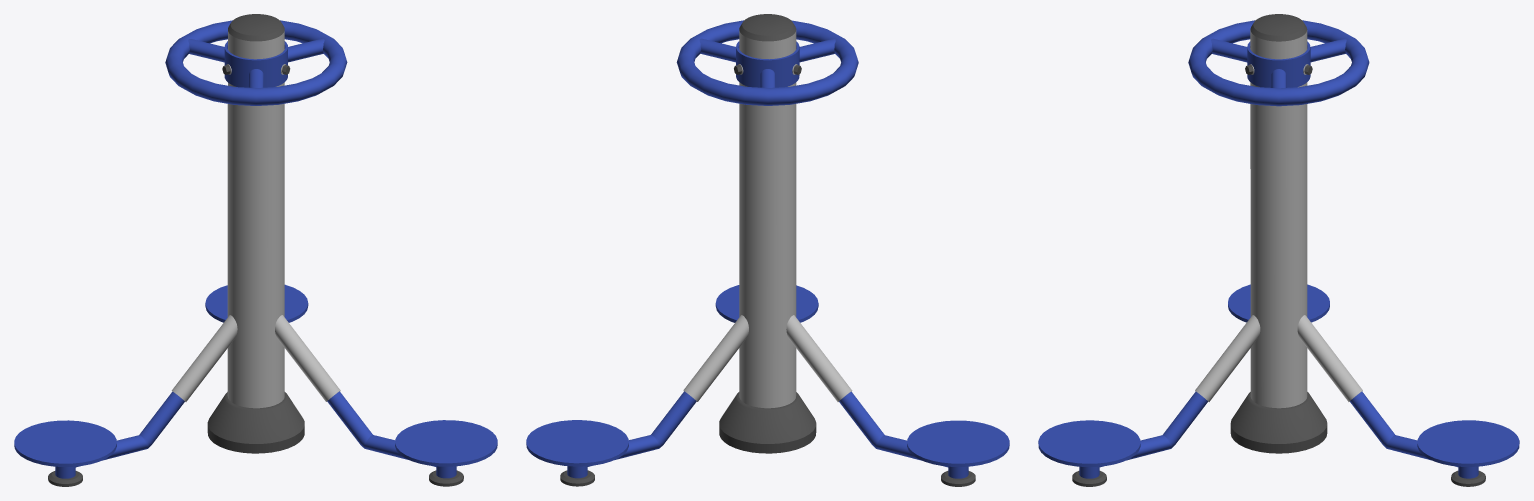
Rendered from sf_outdoor_gym.glb.
3 views of the same model, side by side, from view 1: azimuth 30°, elevation 25°; view 2: azimuth 150°, elevation 25°; view 3: azimuth 270°, elevation 25° (orthographic).
Visible parts, largest first — view 1: Circle.002_0; view 2: Circle.002_0; view 3: Circle.002_0.
Part boxes in pixels (left/top/right/bottom): Circle.002_0: left=14, top=14, right=497, bottom=486; Circle.002_0: left=526, top=14, right=1009, bottom=486; Circle.002_0: left=1038, top=14, right=1519, bottom=486.
Bounding box in the file's own units: 1.35 × 1.42 × 1.5.
